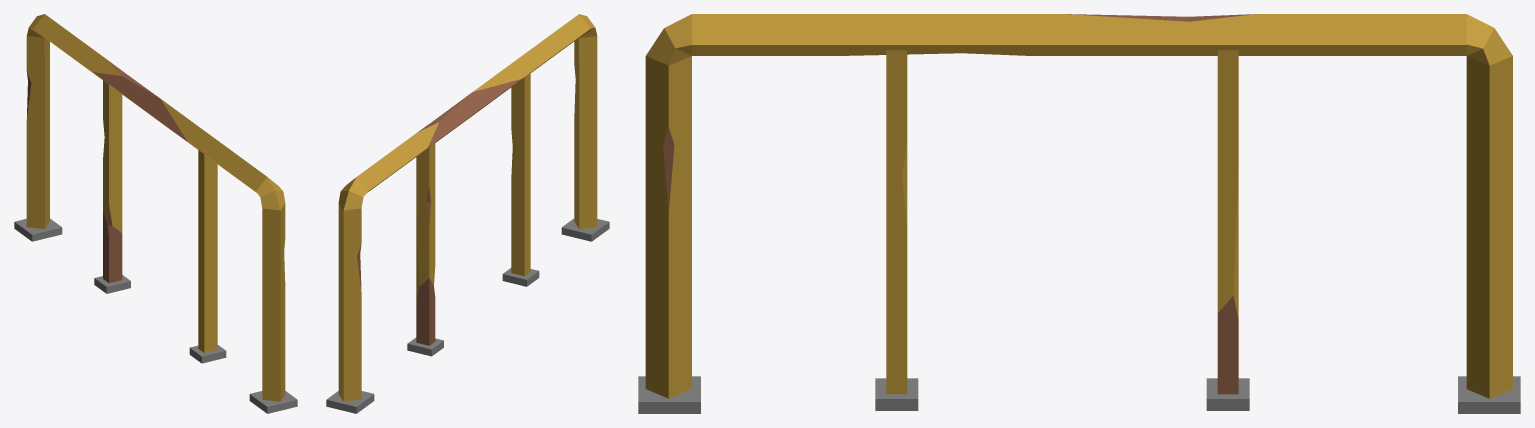
The model's file is model_stairs_railing.fbx.
The picture shows the model from 3 angles, left to right: view 1: azimuth 30°, elevation 25°; view 2: azimuth 150°, elevation 25°; view 3: azimuth 270°, elevation 25°; orthographic projection. The views are drawn at different scales.
Visible parts, largest first — view 1: model_stairs_railing; view 2: model_stairs_railing; view 3: model_stairs_railing.
Part boxes in pixels (x1,y1,x2,y2): model_stairs_railing: (14, 14, 297, 413); model_stairs_railing: (326, 14, 609, 413); model_stairs_railing: (638, 14, 1520, 413).
Size of the model in its own units: 15.88 by 112 by 231.
1 material, 1 textured.
